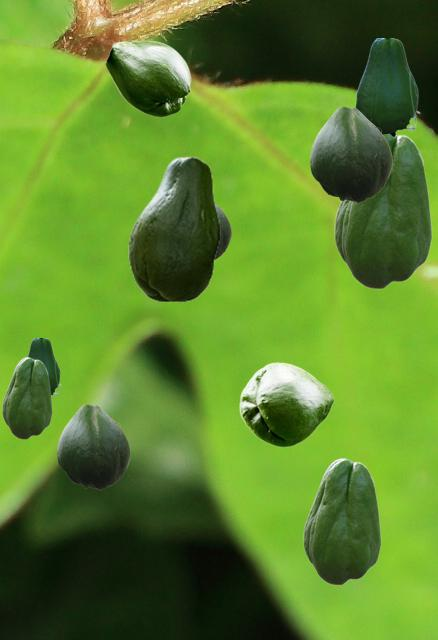sayote: (334, 134, 431, 288), (128, 156, 219, 301), (303, 458, 380, 584), (239, 362, 333, 446), (310, 106, 391, 202), (105, 40, 190, 116), (355, 38, 419, 138), (57, 404, 129, 489), (2, 357, 51, 438), (27, 338, 60, 396), (216, 203, 230, 259)
